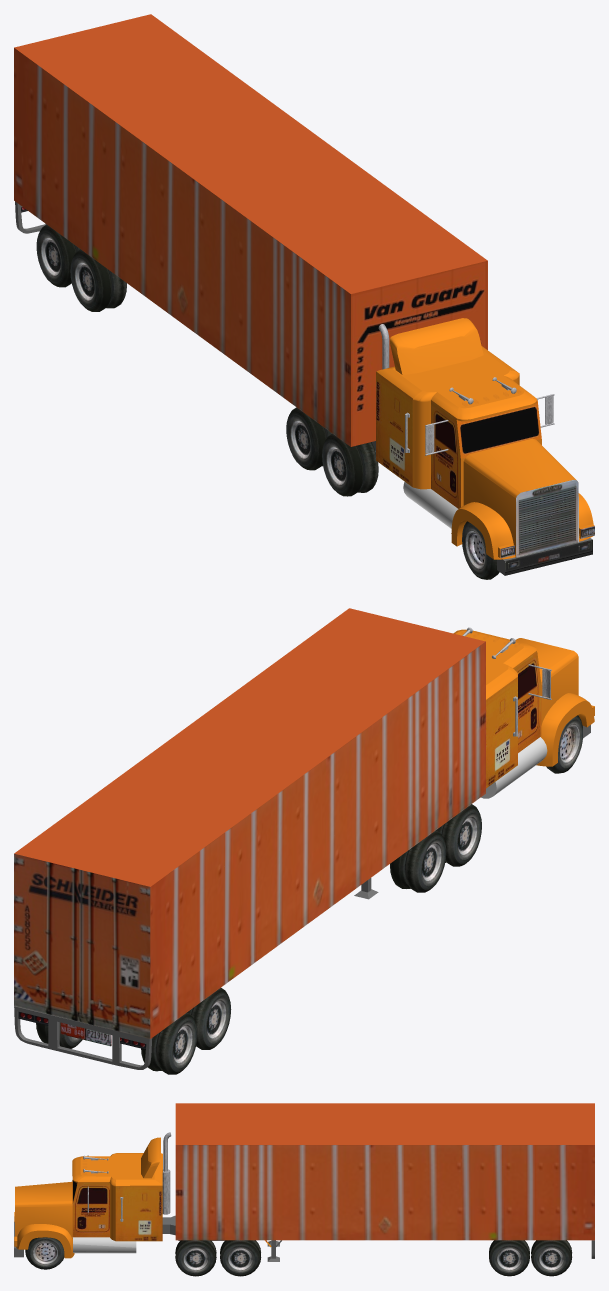
The model's file is semi_truck.fbx.
3 views of the same model, one above another, from view 1: azimuth 30°, elevation 25°; view 2: azimuth 150°, elevation 25°; view 3: azimuth 270°, elevation 25° (orthographic). The views are drawn at different scales.
Visible parts, largest first — view 1: Object_2, Object_5, Object_23, Object_3, Object_17, Object_6, Object_11, Object_10, Object_12, Object_19, Object_7, Object_18 (+1 smaller); view 2: Object_2, Object_5, Object_4, Object_17, Object_23, Object_11, Object_14, Object_12, Object_21, Object_18, Object_19, Object_15; view 3: Object_2, Object_5, Object_23, Object_17, Object_24, Object_13, Object_18, Object_21, Object_14, Object_19, Object_20.
Boxes of the visible parts, bbox=[...] form: Object_2: bbox=[14, 48, 350, 446]; Object_5: bbox=[14, 14, 487, 293]; Object_23: bbox=[376, 318, 594, 559]; Object_3: bbox=[351, 260, 487, 446]; Object_17: bbox=[36, 224, 378, 496]; Object_6: bbox=[516, 479, 578, 557]; Object_11: bbox=[376, 373, 412, 486]; Object_10: bbox=[456, 400, 541, 458]; Object_12: bbox=[431, 401, 460, 508]; Object_19: bbox=[378, 324, 554, 455]; Object_7: bbox=[505, 539, 592, 575]; Object_18: bbox=[462, 521, 571, 579]; Object_2: bbox=[150, 641, 485, 1038]; Object_5: bbox=[14, 608, 485, 886]; Object_4: bbox=[14, 853, 150, 1038]; Object_17: bbox=[36, 804, 481, 1074]; Object_23: bbox=[453, 629, 594, 766]; Object_11: bbox=[486, 678, 517, 788]; Object_14: bbox=[14, 725, 590, 1069]; Object_12: bbox=[514, 652, 541, 752]; Object_21: bbox=[481, 737, 547, 798]; Object_18: bbox=[546, 715, 582, 773]; Object_19: bbox=[462, 627, 551, 736]; Object_15: bbox=[60, 1022, 111, 1046]; Object_2: bbox=[175, 1145, 594, 1240]; Object_5: bbox=[175, 1103, 594, 1144]; Object_23: bbox=[14, 1137, 162, 1258]; Object_17: bbox=[175, 1240, 572, 1276]; Object_24: bbox=[115, 1186, 271, 1247]; Object_13: bbox=[72, 1183, 109, 1237]; Object_18: bbox=[25, 1237, 64, 1269]; Object_21: bbox=[73, 1237, 136, 1253]; Object_14: bbox=[14, 1215, 594, 1261]; Object_19: bbox=[83, 1132, 171, 1221]; Object_20: bbox=[162, 1169, 170, 1214].
Size of the model in its own units: 390 by 582 by 2297.
